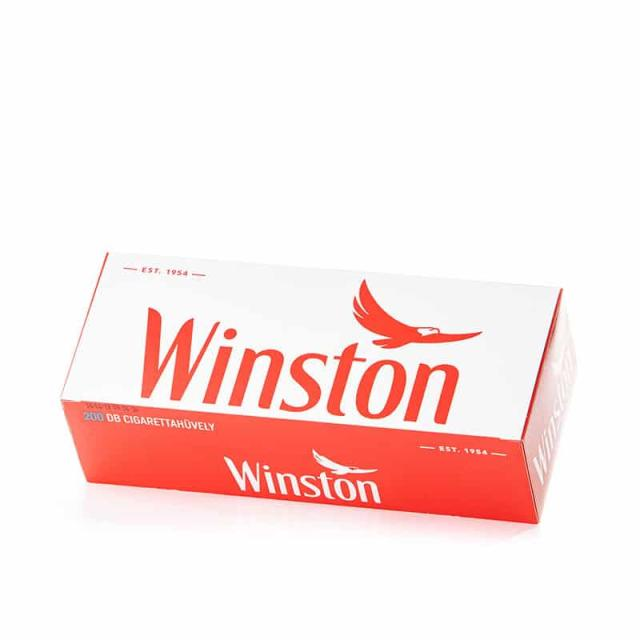winston: (55, 246, 573, 531)
